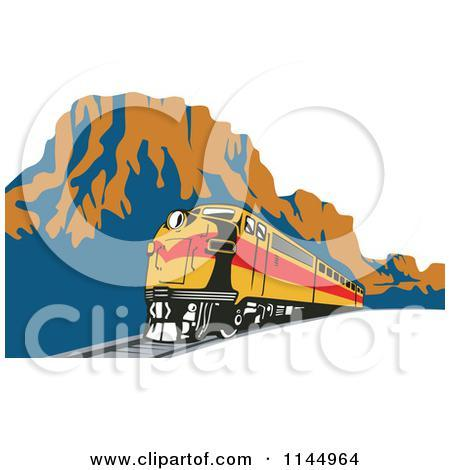train: (128, 198, 365, 347)
